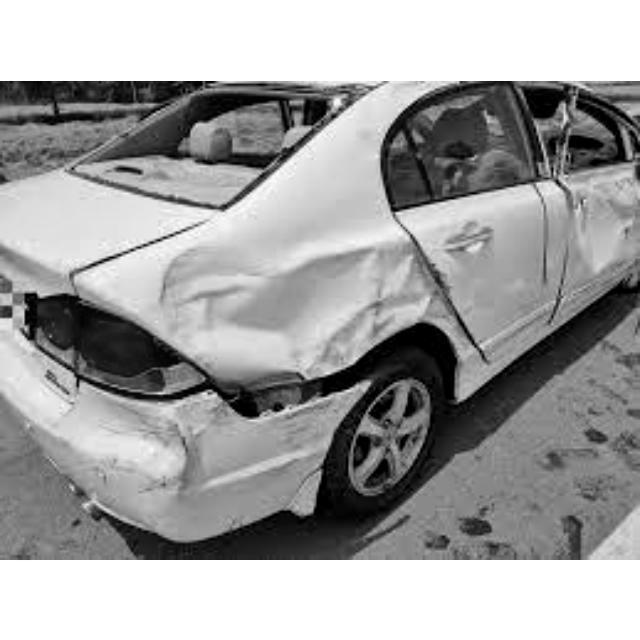doorouter-dent: (420, 180, 558, 335), (561, 167, 637, 320)
quaterpanel-dent: (97, 260, 440, 403), (198, 211, 405, 401)
rear-bumper-dent: (0, 380, 358, 525)
